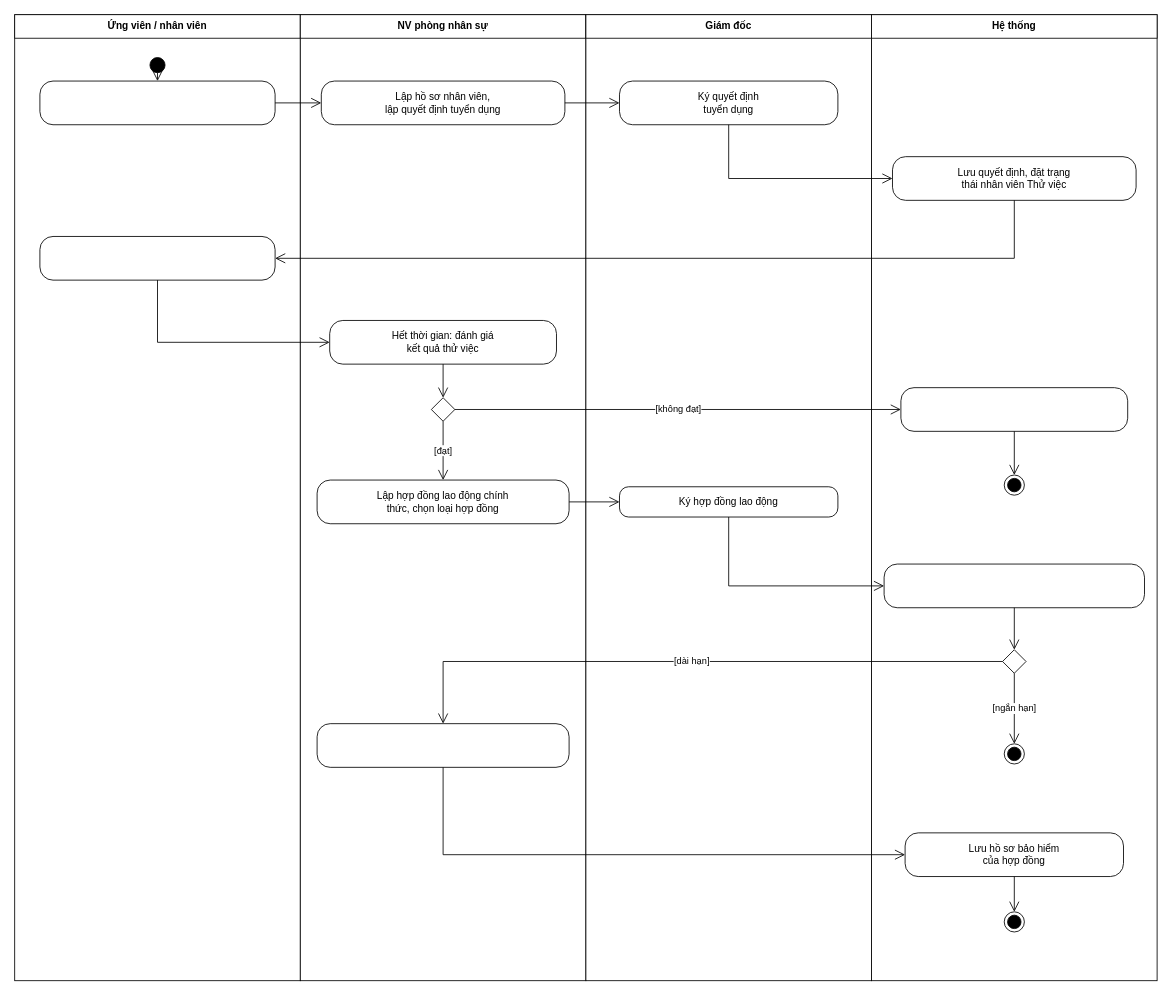
Some shapes in this 1172 by 995 pixel diagram are drawn without their labels. Each missing label, with the centre of its shape:
Cập nhật: không đạt, kết thúc thử việc: (1014,409)
Kiểm tra chưa có hợp đồng, lưu hợp đồng, nhân viên Chính thức: (1013,585)
Làm hồ sơ BHYT, BHXH (ghi số sổ, số thẻ, mức đóng): (442,745)
Làm việc trong thời gian thử việc: (157,258)
Nộp hồ sơ, được nhận vào thử việc: (157,102)
